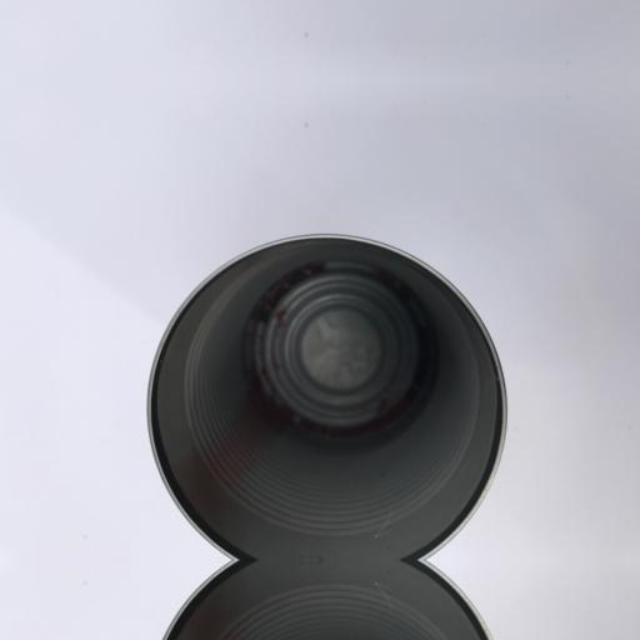Metal: (96, 222, 508, 560), (96, 559, 507, 640)
